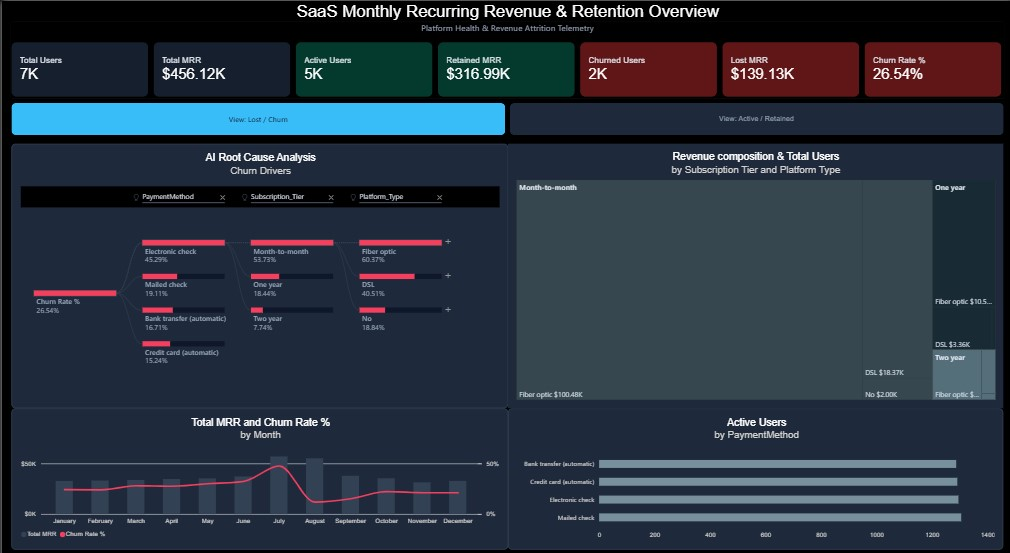

This screenshot's page, from the dashboard's own definition file:
{"tool":"powerbi","page":{"name":"Executive Summary Dashboard","canvas":[1920,1080],"ordinal":0},"visuals":[{"type":"textbox","box":[0,0,1920,40],"z":0},{"type":"decompositionTreeVisual","title":"AI Root Cause Analysis","fields":{"Analyze":["_KeyMeasures.Churn Rate %"],"ExplainBy":["Fact_Churn.PaymentMethod","Dim_Subscription.Platform_Type","Fact_Churn.TechSupport","Dim_Subscription.Subscription_Tier"]},"box":[17.6,271.1,943.3,502.5],"z":1000,"group":"g2"},{"type":"cardVisual","title":"Platform Health & Revenue Attrition Telemetry","fields":{"Data":["_KeyMeasures.Total Users","_KeyMeasures.Total MRR","_KeyMeasures.Active Users","_KeyMeasures.Retained MRR","_KeyMeasures.Churned Users","_KeyMeasures.Lost MRR","_KeyMeasures.Churn Rate %"]},"box":[17.6,39.7,1884.5,143.3],"z":2000},{"type":"bookmarkNavigator","box":[17.6,194,1884.5,61.7],"z":4000},{"type":"treemap","title":"Revenue composition & Total Users","fields":{"Details":["Dim_Subscription.Platform_Type"],"Group":["Dim_Subscription.Subscription_Tier"],"Values":["_KeyMeasures.Lost MRR"]},"box":[960.9,271.1,941.1,502.5],"z":5000,"group":"g2"},{"type":"lineClusteredColumnComboChart","fields":{"Category":["Dim_Date.Date.Variation.Date Hierarchy.Month"],"Y":["_KeyMeasures.Total MRR"],"Y2":["_KeyMeasures.Churn Rate %"]},"box":[17.6,773.6,943.3,268.9],"z":6000,"group":"g1"},{"type":"clusteredBarChart","fields":{"Category":["Fact_Churn.PaymentMethod"],"Y":["_KeyMeasures.Active Users"]},"box":[960.9,773.6,941.1,268.9],"z":7000,"group":"g1"},{"type":"group","id":"g1","title":"Group 1","box":[17.6,773.6,1884.5,268.9],"z":7001},{"type":"group","id":"g2","title":"Group 2","box":[17.6,271.1,1884.5,502.5],"z":7002}]}

Visuals, with their boxes in screenshot pixels (x1, y1, x2, y2), scaled from the page's 1920x1080 canvas onto the 1010x553 screenshot:
textbox: bbox=(0, 0, 1009, 20)
"AI Root Cause Analysis" decompositionTreeVisual: bbox=(9, 139, 505, 396)
"Platform Health & Revenue Attrition Telemetry" cardVisual: bbox=(9, 20, 1001, 94)
bookmarkNavigator: bbox=(9, 99, 1001, 131)
"Revenue composition & Total Users" treemap: bbox=(505, 139, 1001, 396)
lineClusteredColumnComboChart - Dim_Date.Date.Variation.Date Hierarchy.Month x _KeyMeasures.Total MRR: bbox=(9, 396, 505, 534)
clusteredBarChart - Fact_Churn.PaymentMethod x _KeyMeasures.Active Users: bbox=(505, 396, 1001, 534)
"Group 1" group: bbox=(9, 396, 1001, 534)
"Group 2" group: bbox=(9, 139, 1001, 396)
